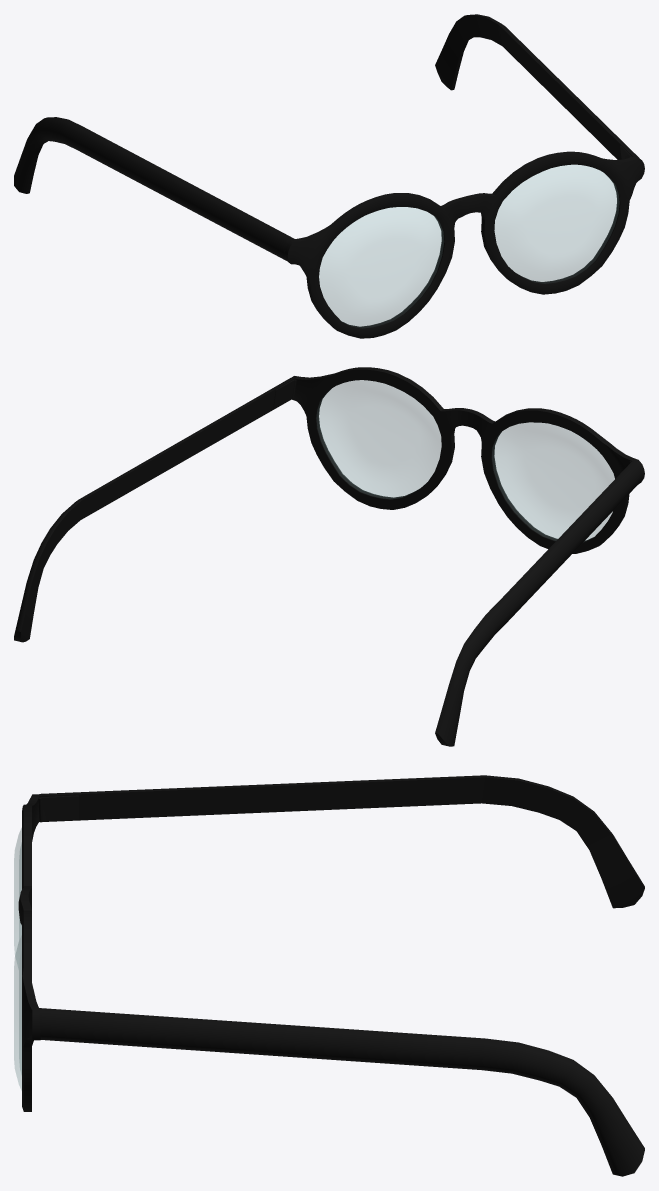
The model's file is Glasses.FBX.
3 views of the same model, one above another, from view 1: azimuth 30°, elevation 25°; view 2: azimuth 150°, elevation 25°; view 3: azimuth 270°, elevation 25° (orthographic). The views are drawn at different scales.
Visible parts, largest first — view 1: Glasses; view 2: Glasses; view 3: Glasses.
Part boxes in pixels (left/top/right/bottom): Glasses: left=14, top=14, right=644, bottom=338; Glasses: left=14, top=367, right=644, bottom=746; Glasses: left=14, top=775, right=644, bottom=1176.
Size of the model in its own units: 16.31 by 4.9 by 15.86.
